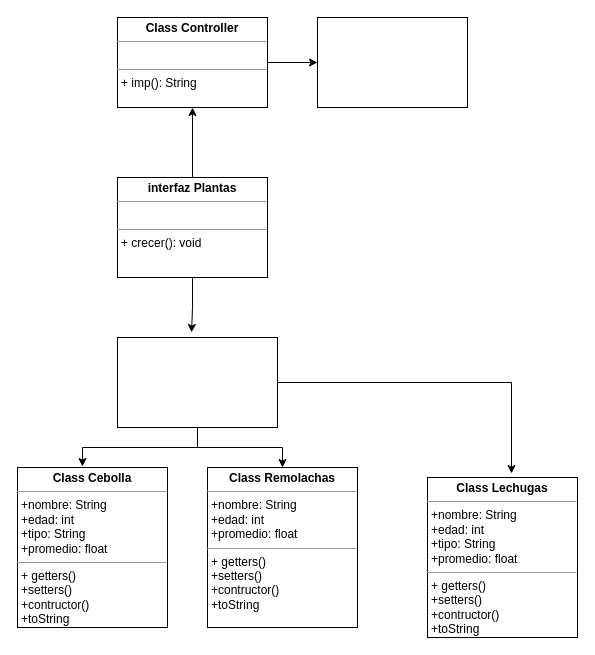
This 595x655 diagram has some shape labels left out. The shapes that lost their labels are listed below. From the top down, each one's box as (x1, y1, x2, y2) in pixels, then its label:
(316, 16, 468, 108): Class Main + main(): void
(116, 336, 278, 428): abstract Class Planta + crecer(): void
